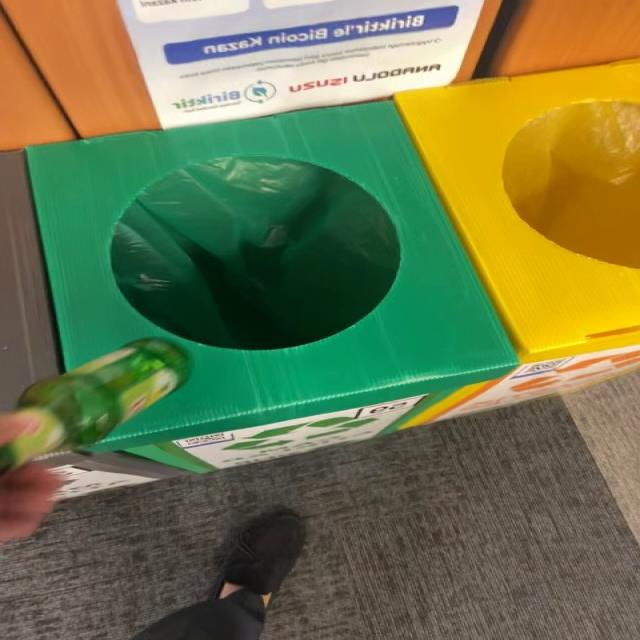glass: (0, 340, 189, 474)
